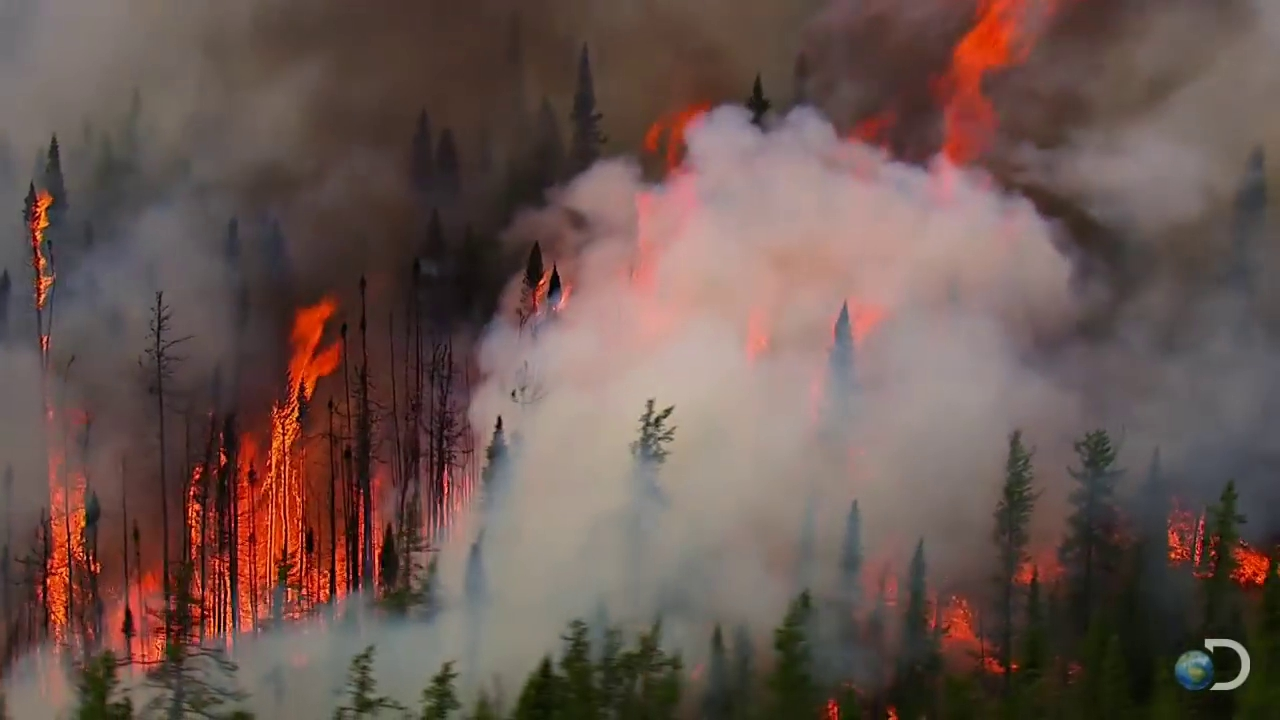forest_fire: (170, 297, 353, 632), (0, 363, 164, 656), (1166, 508, 1216, 577), (27, 191, 54, 309), (939, 595, 979, 646), (1231, 541, 1267, 586), (1018, 563, 1035, 583)
